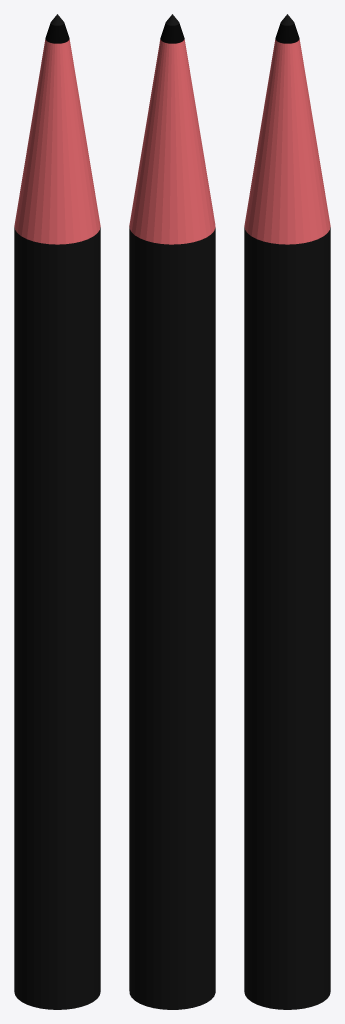
The model's file is eyeliner.fbx.
3 renders of one model, left to right at view 1: azimuth 90°, elevation 25°; view 2: azimuth 210°, elevation 25°; view 3: azimuth 270°, elevation 25°, orthographic.
Parts seen in each view (by area): view 1: Cylinder; view 2: Cylinder; view 3: Cylinder.
Boxes of the visible parts, x1,y1,x2,y2 form: Cylinder: [14, 14, 100, 1009]; Cylinder: [129, 14, 215, 1009]; Cylinder: [244, 14, 330, 1009].
Bounding box in the file's own units: 24.37 × 305 × 24.37.
